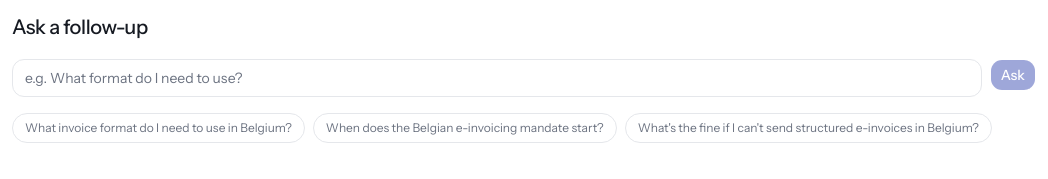
Test: AskPanel - refusal › shows a real refusal calmly, with no error styling and no citations
In the field named "ask a question": (497, 78) [12,59,982,97], type "what format do I need"
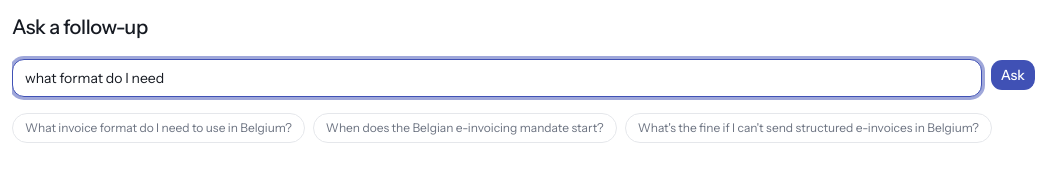
Click the button "Ask": click(1013, 75) [990,59,1036,91]
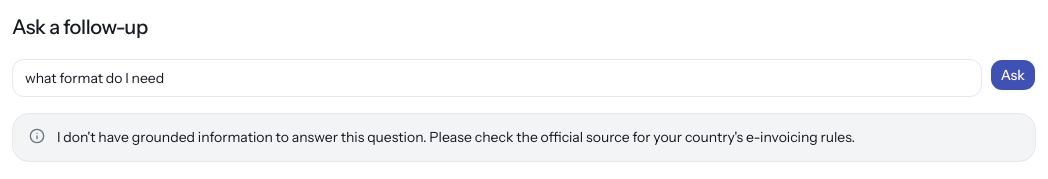
Check: the text "don't have grounded information" is shown, box [57,128,855,146]
